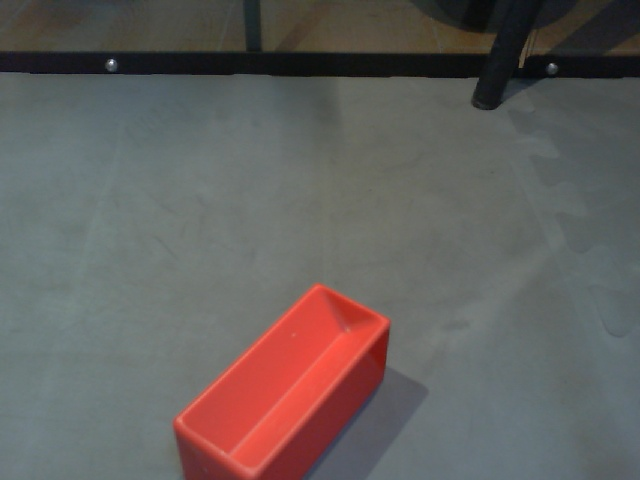RedSample: (168, 281, 393, 480)
